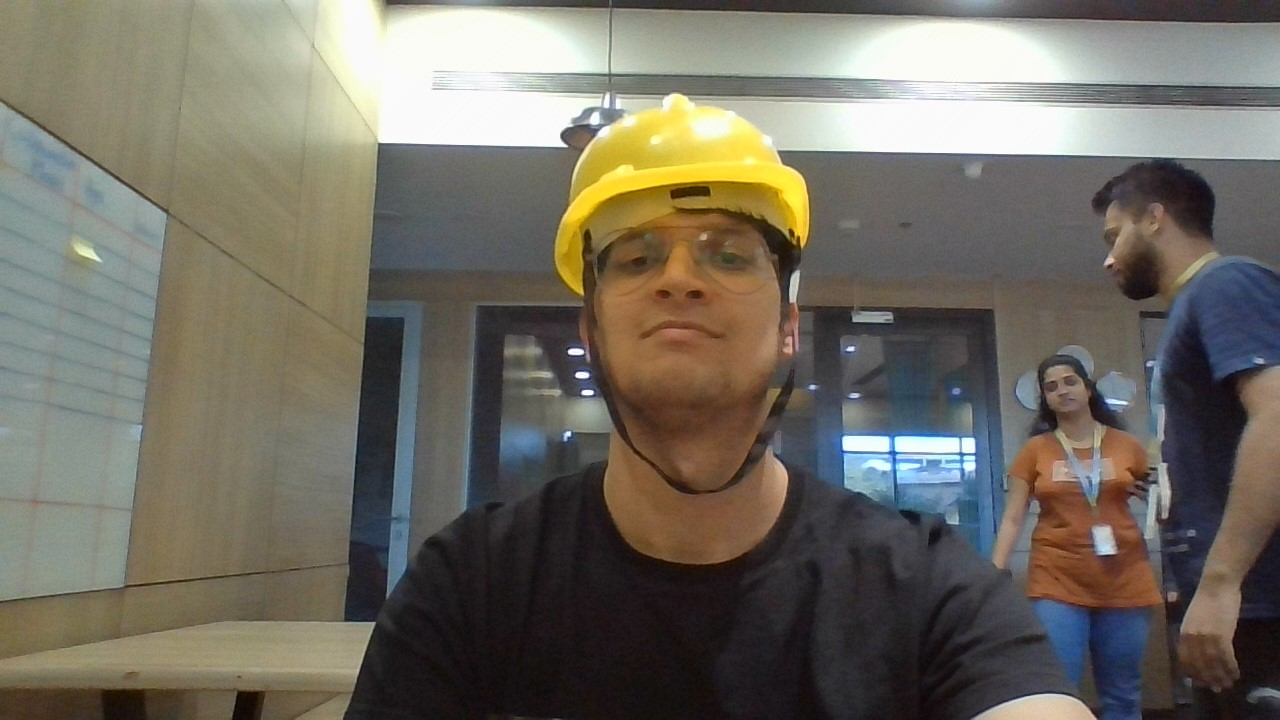Person_wearing_helmet: (531, 97, 804, 317)
